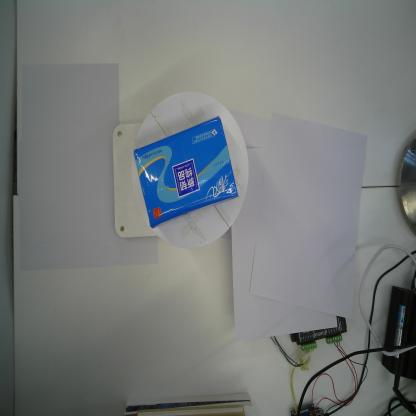Tissue: (134, 116, 238, 231)
